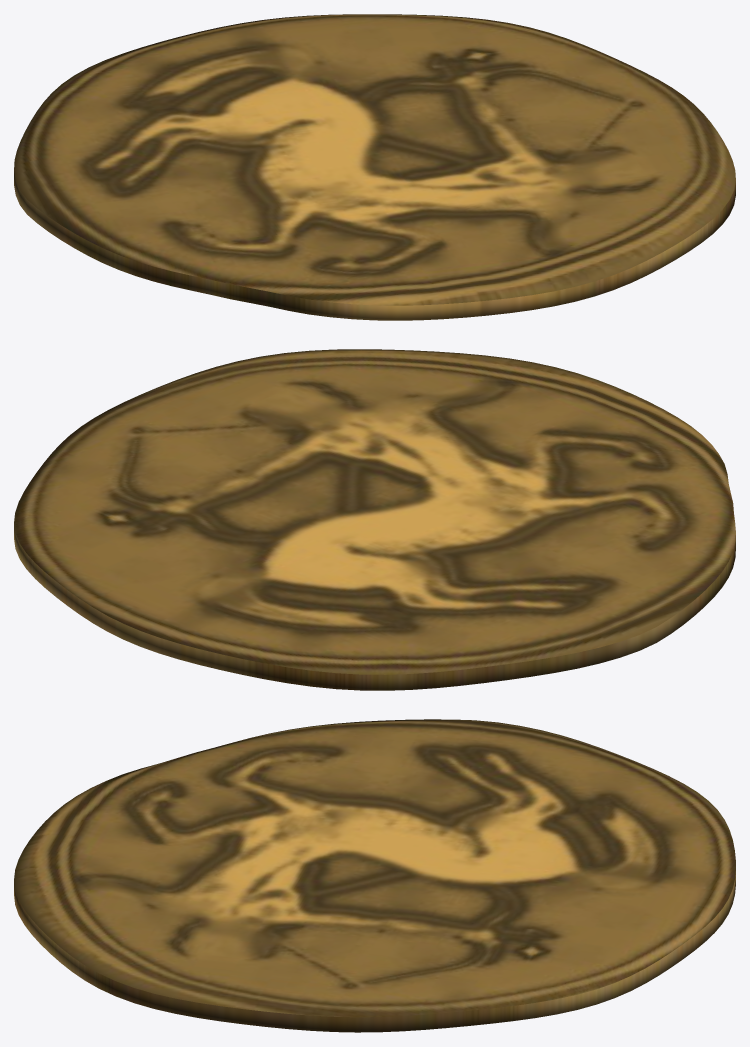
Rendered from zodiac_09.glb.
3 views of the same model, one above another, from view 1: azimuth 30°, elevation 25°; view 2: azimuth 150°, elevation 25°; view 3: azimuth 270°, elevation 25° (orthographic). The views are drawn at different scales.
Visible parts, largest first — view 1: zodiac_09; view 2: zodiac_09; view 3: zodiac_09.
Boxes of the visible parts, x1,y1,x2,y2 form: zodiac_09: (14, 14, 735, 320); zodiac_09: (14, 349, 735, 690); zodiac_09: (14, 719, 735, 1032).
Size of the model in its own units: 0.9386 by 0.0407 by 0.9616.
Materials: 1 (1 with a texture image).
